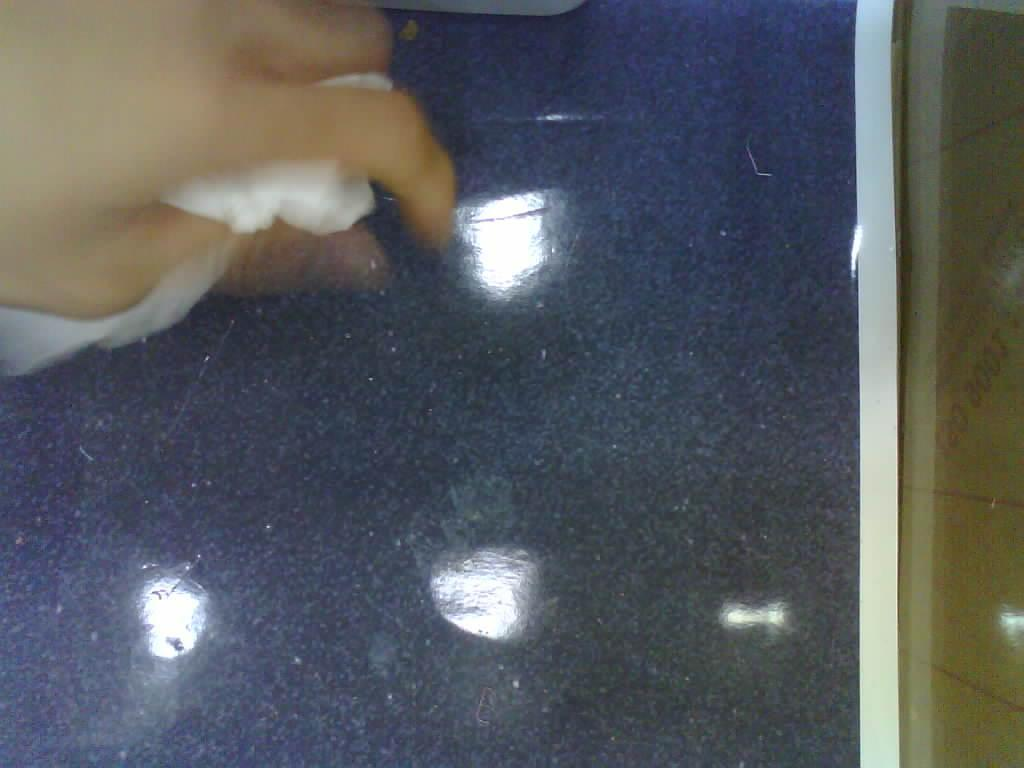paper: (0, 32, 410, 374)
